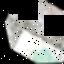Purslane: (7, 29, 64, 64)
